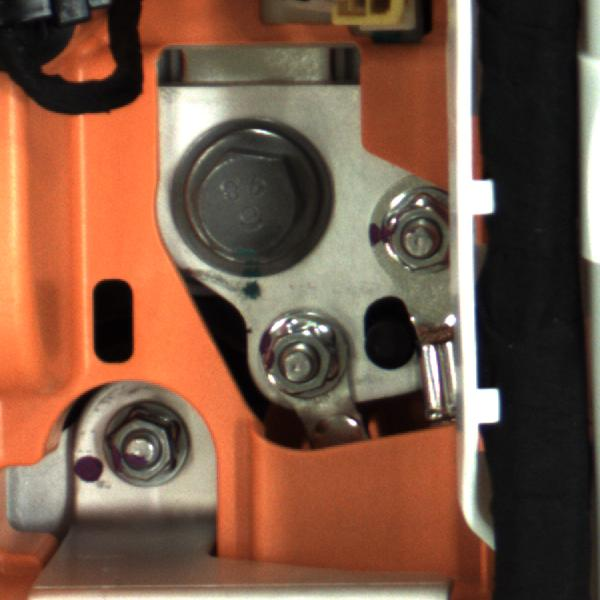nut_b: (169, 123, 333, 268)
screw_s: (255, 311, 358, 403), (93, 405, 200, 493), (378, 183, 463, 280)
